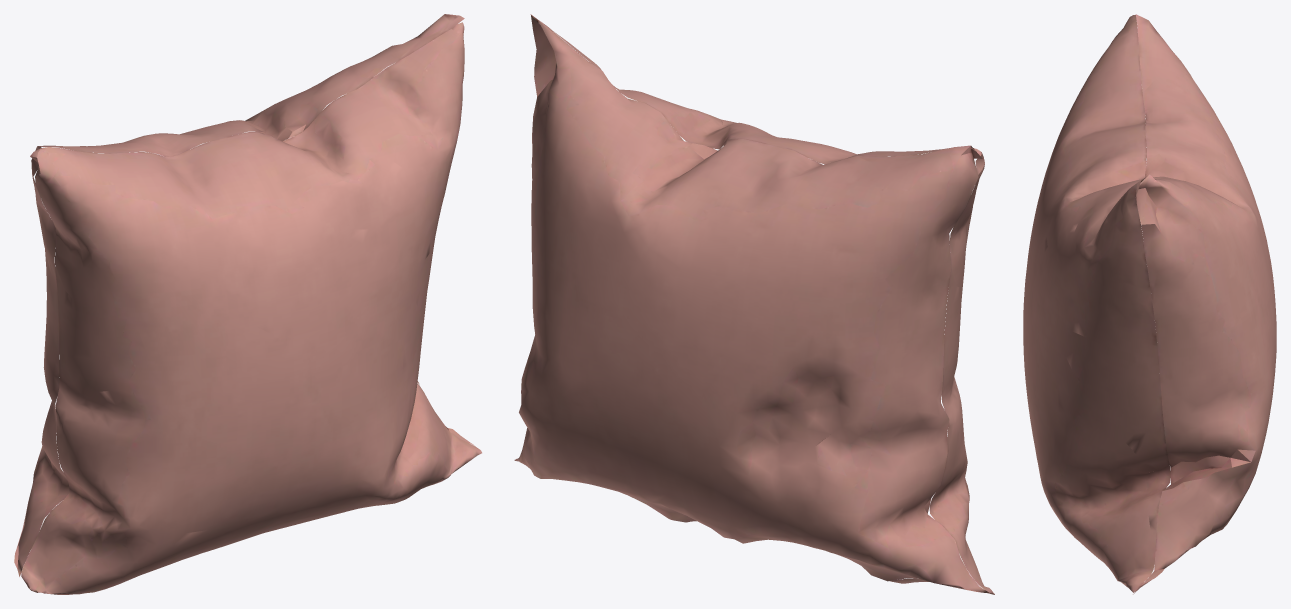
The picture shows the model from 3 angles, left to right: view 1: azimuth 30°, elevation 25°; view 2: azimuth 150°, elevation 25°; view 3: azimuth 270°, elevation 25°; orthographic projection. The views are drawn at different scales.
Visible parts, largest first — view 1: solid; view 2: solid; view 3: solid.
Part boxes in pixels (bbox=[...]): solid: bbox=[14, 14, 481, 594]; solid: bbox=[514, 14, 994, 594]; solid: bbox=[1023, 14, 1276, 594].
Bounding box in the file's own units: 1.33 × 1.29 × 0.6836.
Materials: 1 (1 with a texture image).
